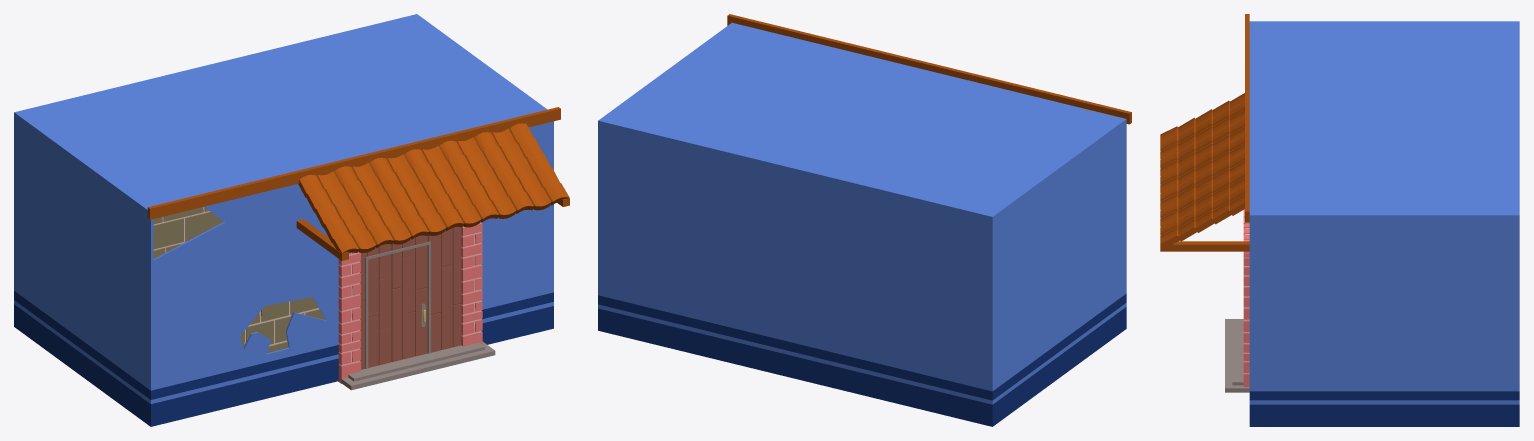
File: HGO_HDO_CASA_AZUL.fbx
3 renders of one model, left to right at view 1: azimuth 30°, elevation 25°; view 2: azimuth 150°, elevation 25°; view 3: azimuth 270°, elevation 25°, orthographic. The views are drawn at different scales.
Visible parts, largest first — view 1: HGO_HDO_CASA00_LOD0; view 2: HGO_HDO_CASA00_LOD0; view 3: HGO_HDO_CASA00_LOD0.
Part boxes in pixels (left/top/right/bottom): HGO_HDO_CASA00_LOD0: left=14, top=14, right=569, bottom=426; HGO_HDO_CASA00_LOD0: left=598, top=14, right=1131, bottom=426; HGO_HDO_CASA00_LOD0: left=1160, top=14, right=1519, bottom=426.
Size of what is drawn, in the model's own units: 603 by 310 by 463.
